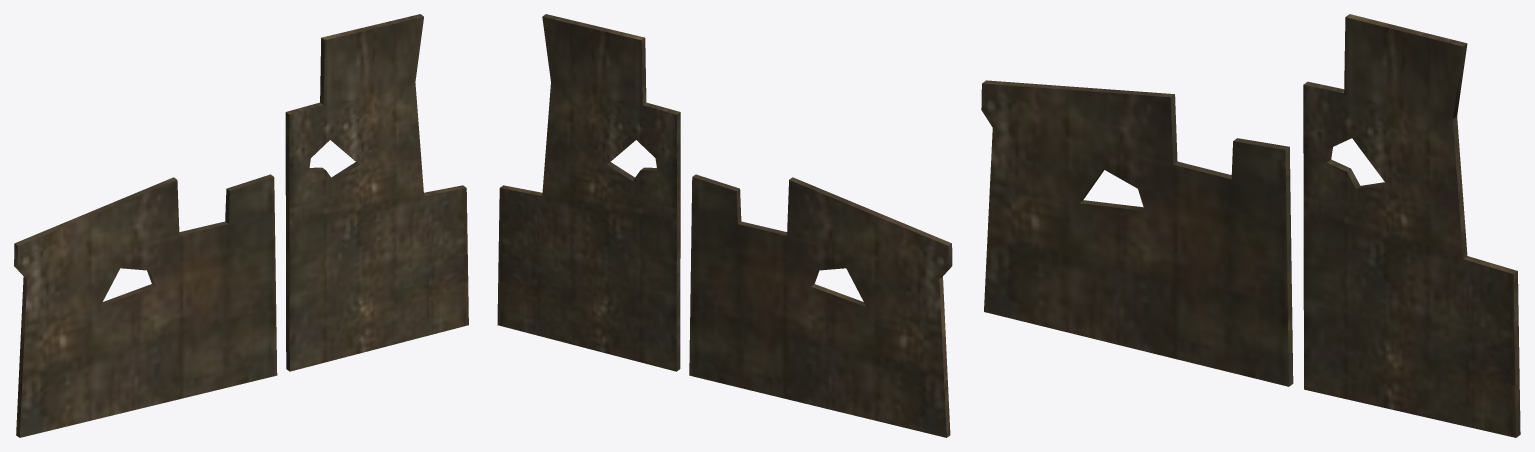
The picture shows the model from 3 angles, left to right: view 1: azimuth 30°, elevation 25°; view 2: azimuth 150°, elevation 25°; view 3: azimuth 330°, elevation 25°; orthographic projection. The views are drawn at different scales.
Parts seen in each view (by area): view 1: woodwall2; view 2: woodwall2; view 3: woodwall2.
Boxes of the visible parts, x1,y1,x2,y2 form: woodwall2: (14,14,468,437); woodwall2: (497,14,952,437); woodwall2: (981,14,1520,437).
Size of the model in its own units: 4.37 by 3 by 0.0616.
1 material, 1 textured.
